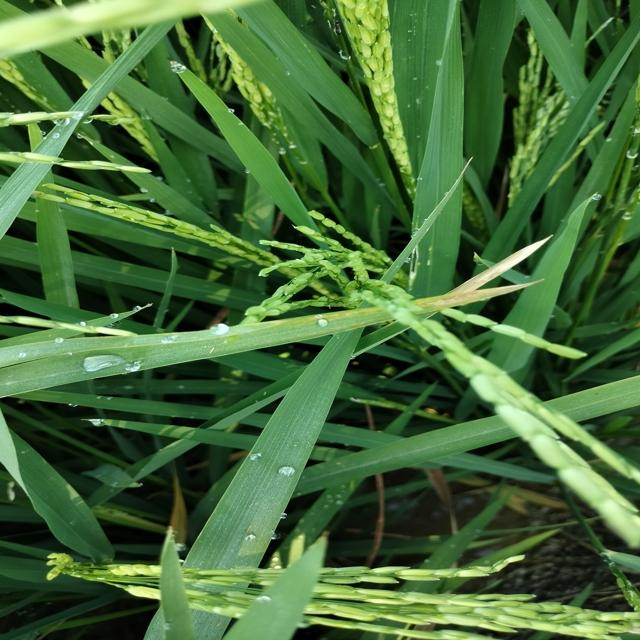healthy: (454, 228, 554, 287), (424, 275, 550, 313)
